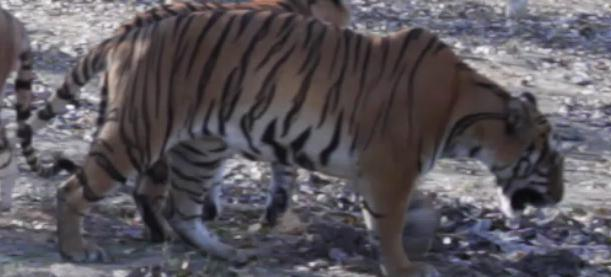tiger: (41, 0, 562, 276)
